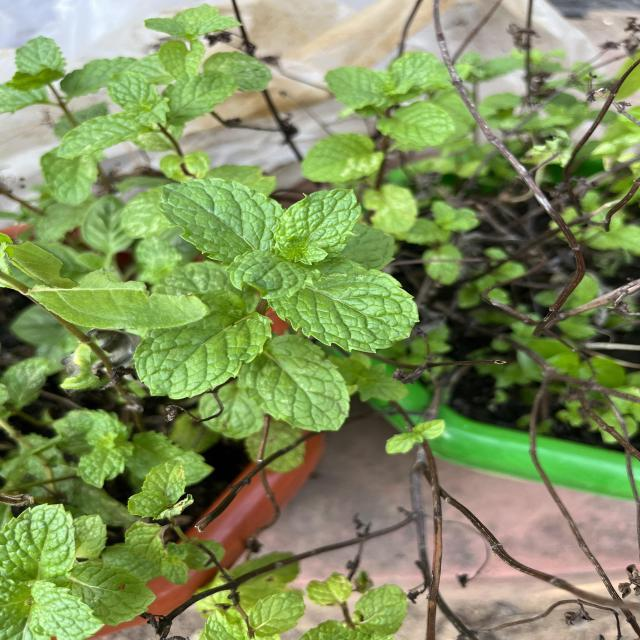Mentha spicata: (132, 288, 272, 402), (269, 256, 422, 356), (235, 333, 353, 434), (159, 177, 283, 266), (271, 185, 364, 263)
